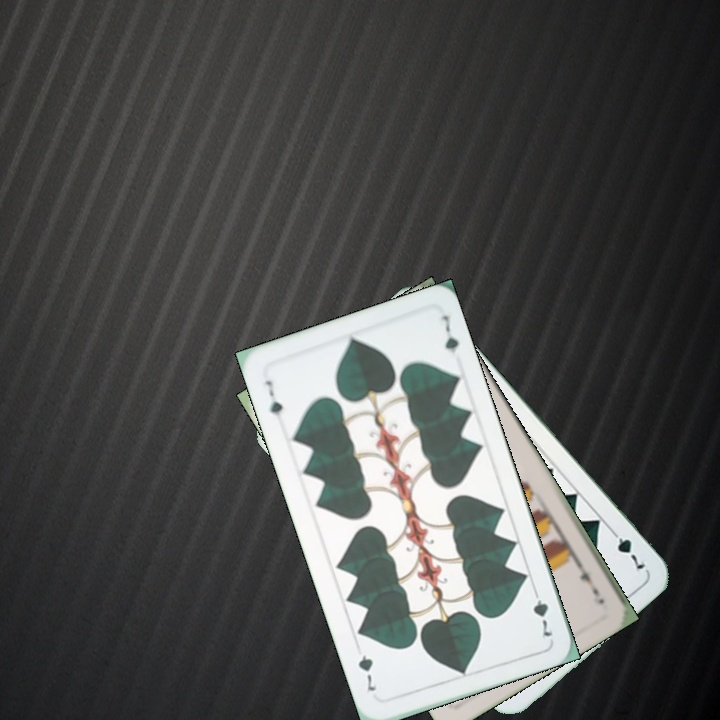E7: (570, 555, 603, 599)
G7: (605, 524, 648, 572), (529, 583, 556, 643), (261, 376, 287, 426)
